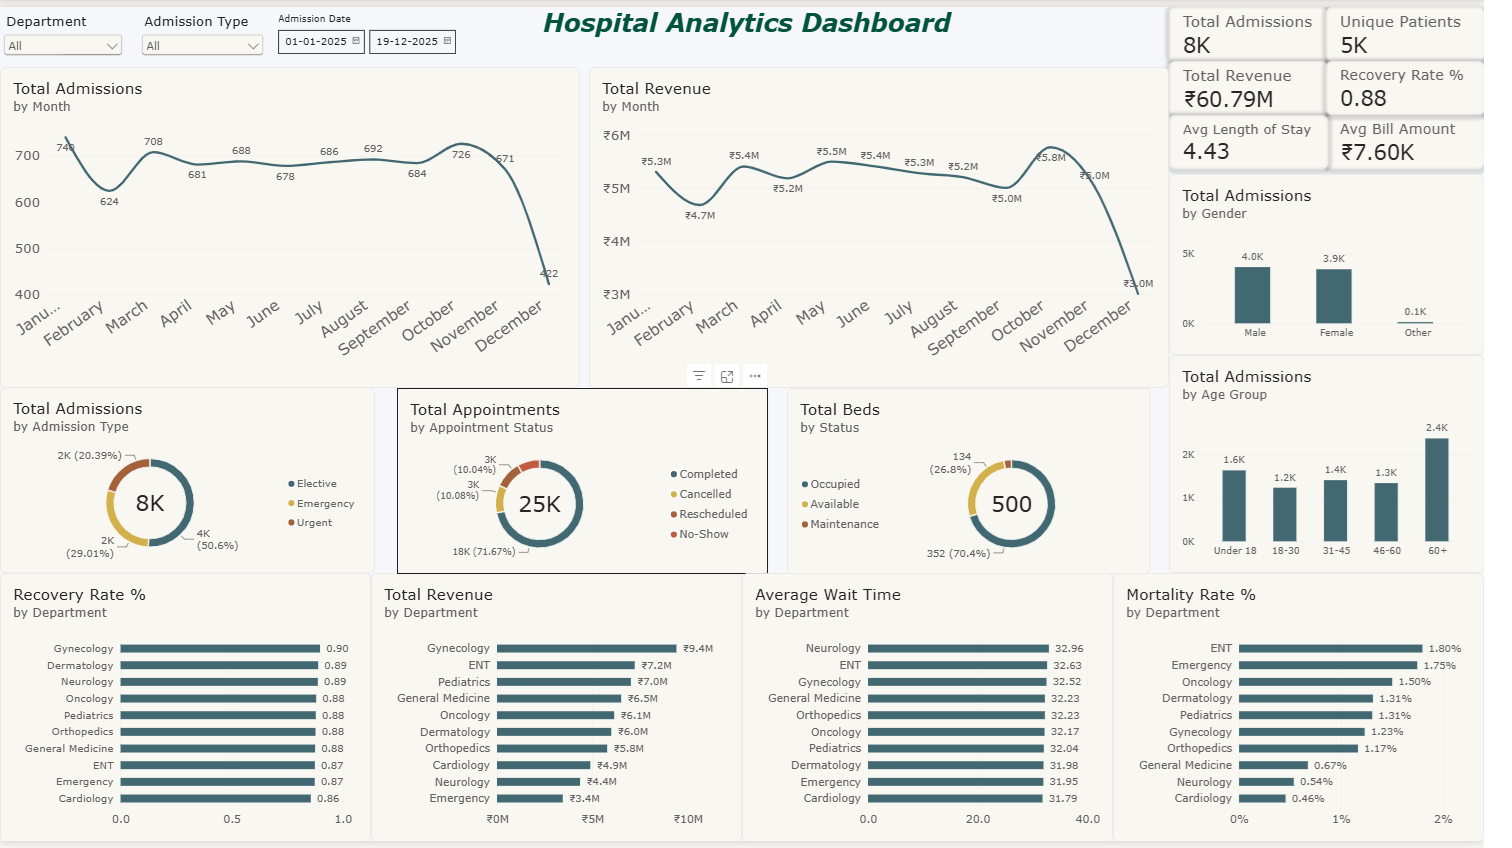

Layout of this report page (visuals, bound fields, positions):
{"tool":"powerbi","page":{"name":"Page 1","canvas":[1920,1080],"ordinal":0},"visuals":[{"type":"cardVisual","fields":{"Data":["admissions.Total Admissions"]},"box":[1512.5,0,205,70],"z":0},{"type":"cardVisual","fields":{"Data":["admissions.Unique Patients"]},"box":[1715.6,0,205,70],"z":1000},{"type":"cardVisual","fields":{"Data":["billing.Total Revenue"]},"box":[1512.5,70,205,70],"z":2000},{"type":"cardVisual","fields":{"Data":["billing.Average Bill Amount"]},"box":[1715.6,140,205,70],"z":3000},{"type":"cardVisual","fields":{"Data":["admissions.Average Length of Stay"]},"box":[1512,140,205.7,70],"z":4000},{"type":"cardVisual","fields":{"Data":["admissions.Recovery Rate %"]},"box":[1715.6,70,205,70],"z":5000},{"type":"lineChart","fields":{"Category":["admissions.admission_date.Variation.Date Hierarchy.Month"],"Y":["admissions.Total Admissions"]},"box":[0,77.6,750,415],"z":6000},{"type":"lineChart","fields":{"Category":["admissions.admission_date.Variation.Date Hierarchy.Month"],"Y":["billing.Total Revenue"]},"box":[762,77.6,750,415],"z":7000},{"type":"clusteredBarChart","title":"Total Revenue","fields":{"Category":["admissions.department"],"Y":["billing.Total Revenue"]},"box":[480,732.3,480,348],"z":8000},{"type":"donutChart","title":"Total Admissions","fields":{"Category":["admissions.admission_type"],"Y":["admissions.Total Admissions"]},"box":[0,491.6,485.2,240.6],"z":9000},{"type":"clusteredBarChart","title":"Recovery Rate %","fields":{"Category":["admissions.department"],"Y":["admissions.Recovery Rate %"]},"box":[0,732.3,480,348],"z":10000},{"type":"clusteredBarChart","title":"Mortality Rate %","fields":{"Category":["admissions.department"],"Y":["admissions.Mortality Rate %"]},"box":[1440,732.3,480,348],"z":11000},{"type":"donutChart","title":"Total Appointments","fields":{"Category":["appointments.appointment_status"],"Y":["appointments.Total Appointments"]},"box":[513.6,492.9,480,240.6],"z":12000},{"type":"clusteredBarChart","title":"Average Wait Time","fields":{"Category":["appointments.department"],"Y":["appointments.Average Wait Time"]},"box":[960,732.3,480,348],"z":13000},{"type":"donutChart","title":"Total Beds","fields":{"Category":["beds.status"],"Y":["beds.Total Beds"]},"box":[1018.2,492.9,470,240.6],"z":14000},{"type":"clusteredColumnChart","title":"Total Admissions ","fields":{"Category":["patients.gender"],"Y":["admissions.Total Admissions"]},"box":[1512.5,216.1,407.5,234.2],"z":15000},{"type":"clusteredColumnChart","fields":{"Category":["patients.Age Group"],"Y":["admissions.Total Admissions"]},"box":[1512.5,450.2,407.5,282],"z":16000},{"type":"slicer","fields":{"Values":["admissions.department"]},"box":[0,7.8,163,70],"z":17000},{"type":"slicer","fields":{"Values":["admissions.admission_type"]},"box":[178.5,7.8,166.9,56.9],"z":18000},{"type":"slicer","fields":{"Values":["admissions.admission_date"]},"box":[351.9,7.8,256.2,66],"z":19000},{"type":"textbox","box":[679.2,0,574.4,69.9],"z":20000}]}

Visuals, with their boxes in screenshot pixels (x1, y1, x2, y2), scaled from the page's 1920x1080 canvas onto the 1512x848 screenshot:
cardVisual - admissions.Total Admissions: Rect(1191, 0, 1353, 55)
cardVisual - admissions.Unique Patients: Rect(1351, 0, 1511, 55)
cardVisual - billing.Total Revenue: Rect(1191, 55, 1353, 110)
cardVisual - billing.Average Bill Amount: Rect(1351, 110, 1511, 165)
cardVisual - admissions.Average Length of Stay: Rect(1191, 110, 1353, 165)
cardVisual - admissions.Recovery Rate %: Rect(1351, 55, 1511, 110)
lineChart - admissions.admission_date.Variation.Date Hierarchy.Month x admissions.Total Admissions: Rect(0, 61, 591, 387)
lineChart - admissions.admission_date.Variation.Date Hierarchy.Month x billing.Total Revenue: Rect(600, 61, 1191, 387)
"Total Revenue" clusteredBarChart: Rect(378, 575, 756, 847)
"Total Admissions" donutChart: Rect(0, 386, 382, 575)
"Recovery Rate %" clusteredBarChart: Rect(0, 575, 378, 847)
"Mortality Rate %" clusteredBarChart: Rect(1134, 575, 1511, 847)
"Total Appointments" donutChart: Rect(404, 387, 782, 576)
"Average Wait Time" clusteredBarChart: Rect(756, 575, 1134, 847)
"Total Beds" donutChart: Rect(802, 387, 1172, 576)
"Total Admissions " clusteredColumnChart: Rect(1191, 170, 1511, 354)
clusteredColumnChart - patients.Age Group x admissions.Total Admissions: Rect(1191, 353, 1511, 575)
slicer - admissions.department: Rect(0, 6, 128, 61)
slicer - admissions.admission_type: Rect(141, 6, 272, 51)
slicer - admissions.admission_date: Rect(277, 6, 479, 58)
textbox: Rect(535, 0, 987, 55)
